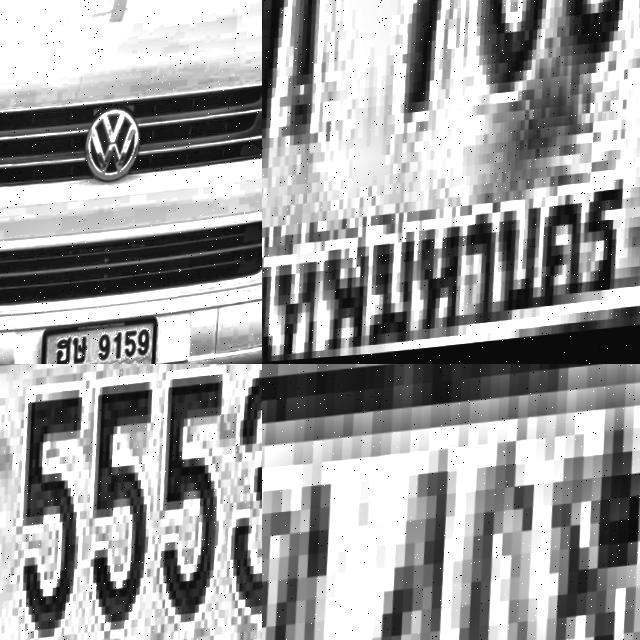license-plate: (262, 0, 640, 364), (262, 364, 640, 640), (0, 364, 262, 640), (48, 318, 167, 364)
